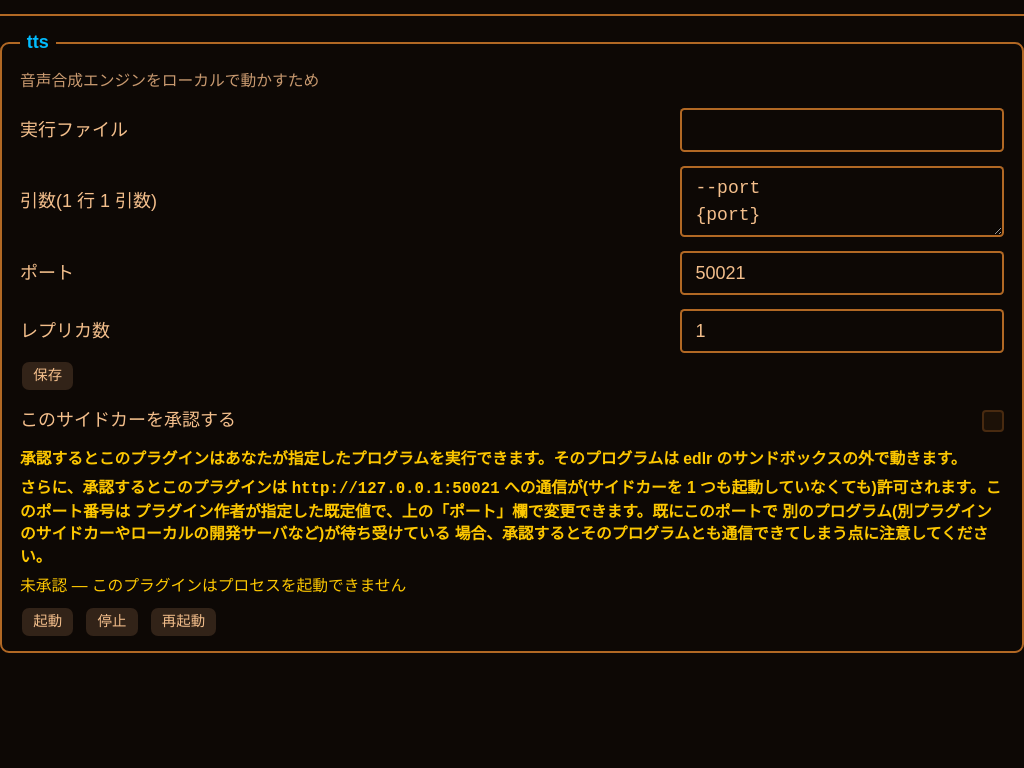
Scenario: SidecarSection › surfaces an error from a rejected config save
In the field labelled "実行ファイル": [842, 130] box x1=680 y1=108 x2=1004 y2=152, type "/usr/bin/piper"
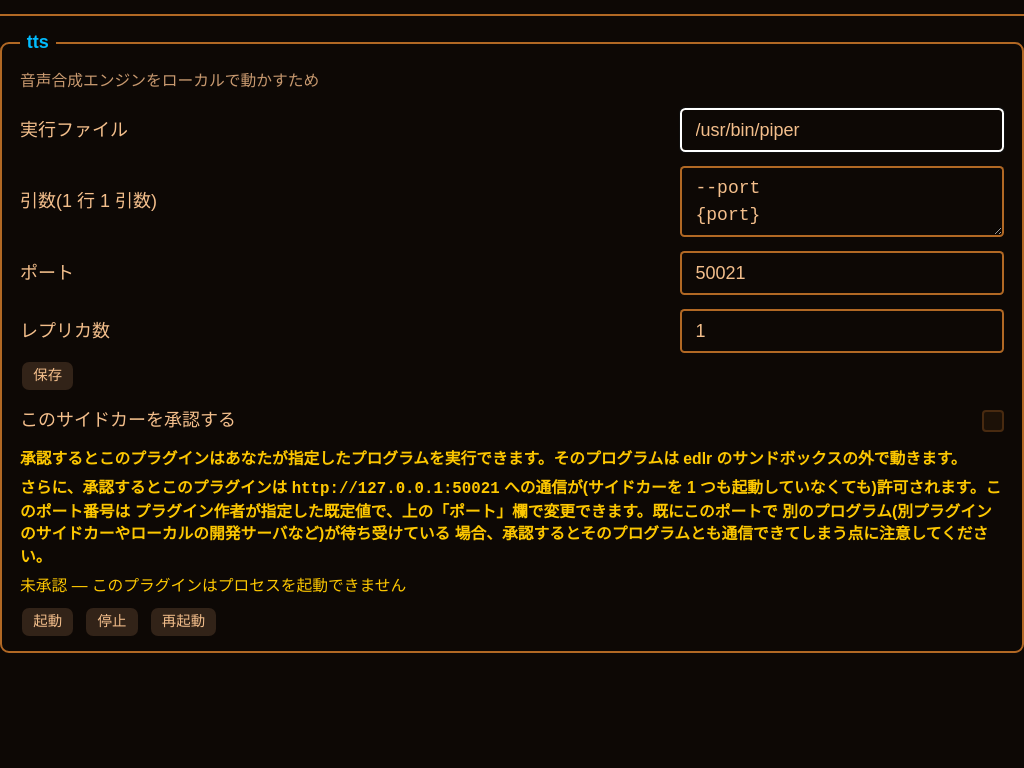
Click the button "保存": [48, 376] box x1=20 y1=360 x2=75 y2=392
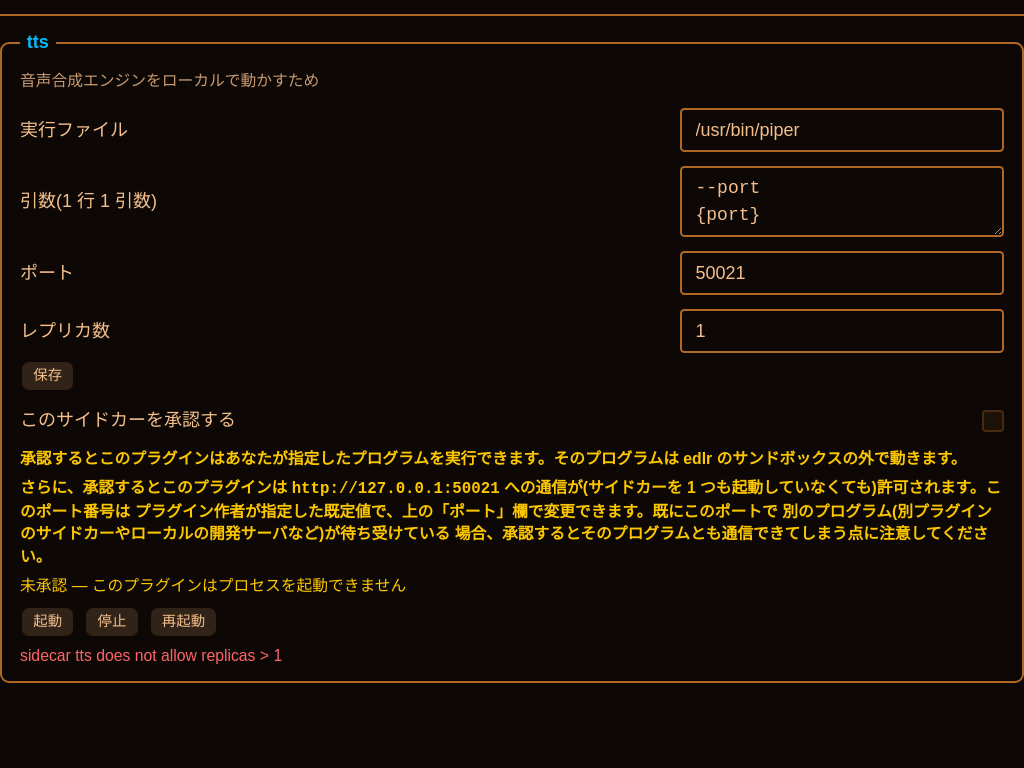
Result: the text "sidecar tts does not allow replicas > 1" is shown at x1=20 y1=646 x2=282 y2=664
